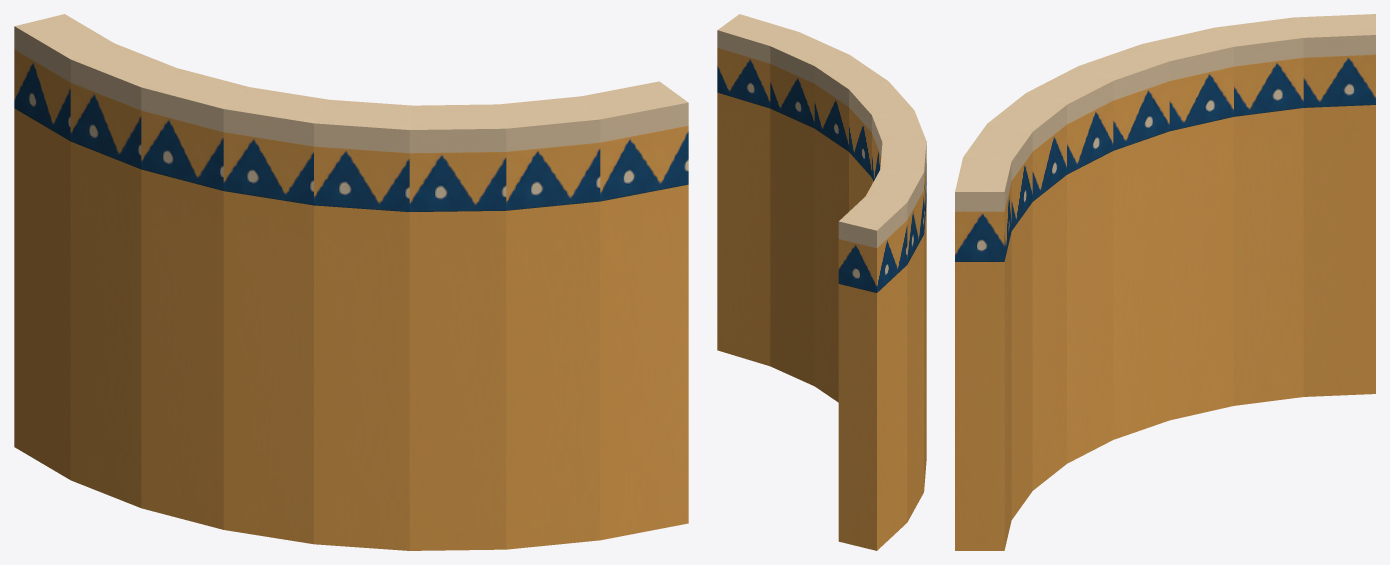
File: rc_wa_wallcorner_rounded_4m.glb
The picture shows the model from 3 angles, left to right: view 1: azimuth 30°, elevation 25°; view 2: azimuth 150°, elevation 25°; view 3: azimuth 270°, elevation 25°; orthographic projection. The views are drawn at different scales.
Parts seen in each view (by area): view 1: SM_RC_WA_Wall_RoundedCorner_4m; view 2: SM_RC_WA_Wall_RoundedCorner_4m; view 3: SM_RC_WA_Wall_RoundedCorner_4m.
Part boxes in pixels (x1,y1,x2,y2): SM_RC_WA_Wall_RoundedCorner_4m: (14, 14, 688, 550); SM_RC_WA_Wall_RoundedCorner_4m: (717, 14, 926, 550); SM_RC_WA_Wall_RoundedCorner_4m: (955, 14, 1375, 550).
Size of the model in its own units: 4.25 by 4 by 4.25.
Materials: 1 (1 with a texture image).
